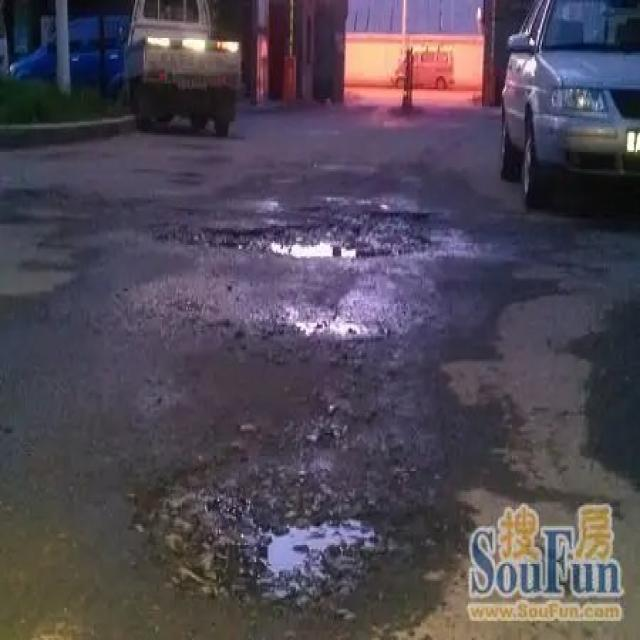Buraco: (123, 449, 465, 636), (142, 198, 440, 262)
